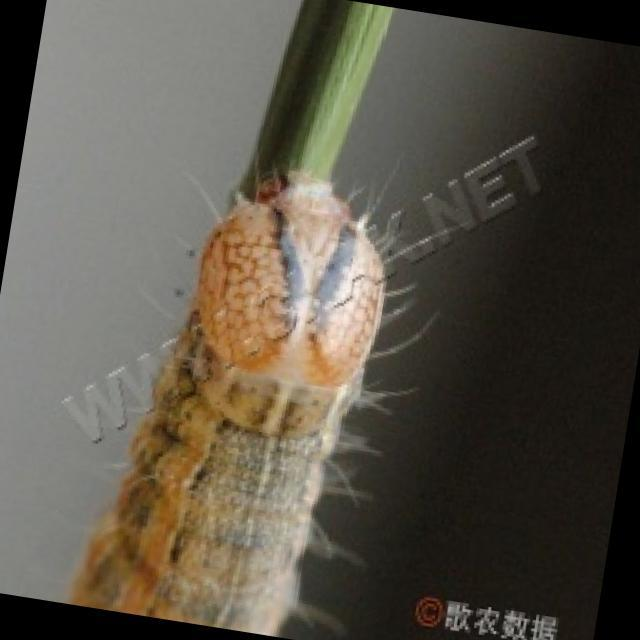Plaga: (60, 123, 437, 640)
